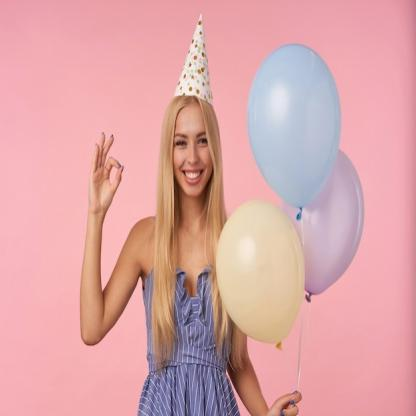ok: (87, 129, 126, 219)
